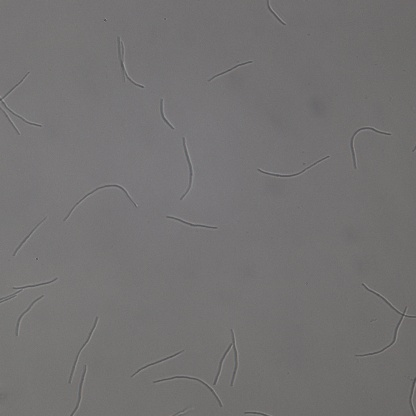Sensitive: (63, 182, 138, 220), (356, 307, 409, 359), (1, 72, 44, 135), (152, 376, 222, 406), (362, 285, 416, 321), (69, 317, 98, 382), (350, 126, 392, 168), (258, 155, 329, 178), (116, 35, 144, 88), (214, 328, 239, 386), (132, 350, 183, 376), (13, 218, 46, 256), (14, 296, 43, 335), (71, 365, 91, 414), (180, 138, 195, 199), (209, 61, 252, 80), (167, 216, 218, 230), (157, 97, 174, 131), (265, 1, 287, 25)
